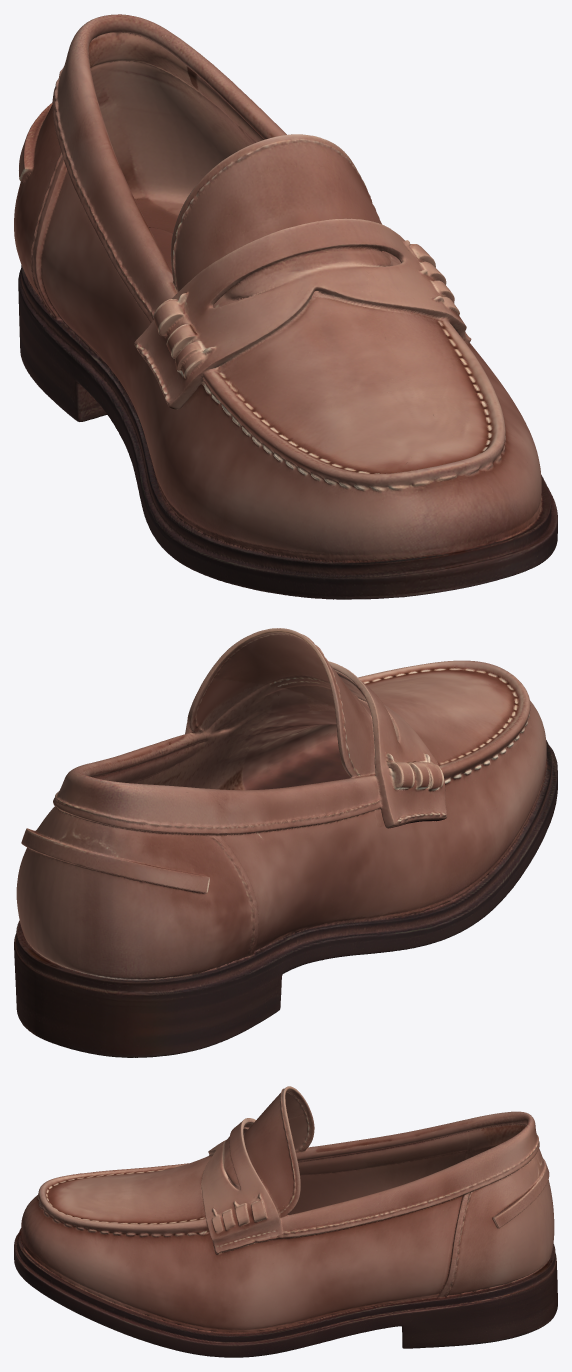
File: shoe.glb
3 renders of one model, top to bottom at view 1: azimuth 30°, elevation 25°; view 2: azimuth 150°, elevation 25°; view 3: azimuth 270°, elevation 25°, orthographic. The views are drawn at different scales.
Visible parts, largest first — view 1: Mesh_0; view 2: Mesh_0; view 3: Mesh_0.
Part boxes in pixels (x1,y1,x2,y2): Mesh_0: (14,14,557,599); Mesh_0: (14,628,557,1057); Mesh_0: (14,1086,557,1357).
Size of the model in its own units: 0.5137 by 0.4828 by 1.12.
1 material, 1 textured.
